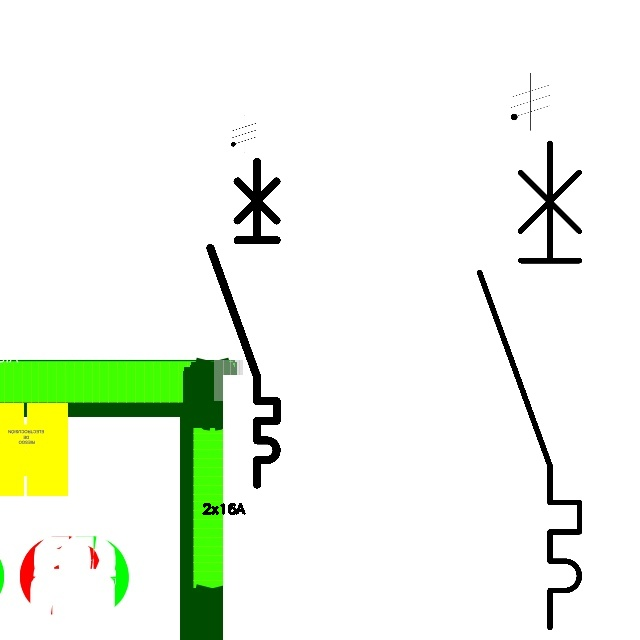interruptor_termomagnetico: (467, 130, 592, 639), (202, 153, 285, 492)
